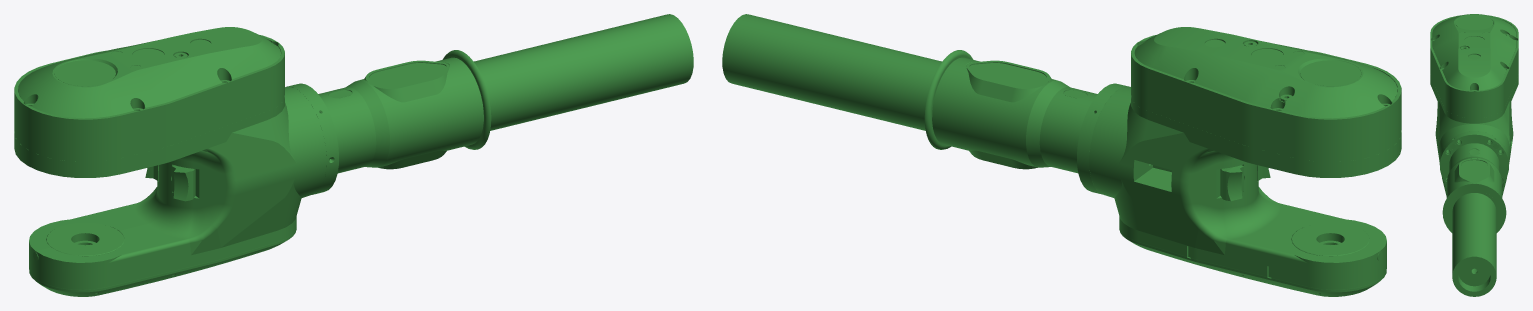
3 renders of one model, left to right at view 1: azimuth 30°, elevation 25°; view 2: azimuth 150°, elevation 25°; view 3: azimuth 270°, elevation 25°, orthographic. The views are drawn at different scales.
Visible parts, largest first — view 1: Cuerpo1:2, Cuerpo1:1, Cuerpo1, Cuerpo10; view 2: Cuerpo1:2, Cuerpo1:1, Cuerpo1, Cuerpo10; view 3: Cuerpo1:1, Cuerpo1, Cuerpo10, Cuerpo1:2.
Boxes of the visible parts, box(x1,y1,x2,y2) form: Cuerpo1:2: box(14, 86, 326, 296); Cuerpo1:1: box(14, 27, 284, 161); Cuerpo1: box(286, 50, 491, 194); Cuerpo10: box(474, 14, 693, 130); Cuerpo1:2: box(1089, 86, 1401, 296); Cuerpo1:1: box(1131, 27, 1401, 161); Cuerpo1: box(924, 50, 1129, 194); Cuerpo10: box(722, 14, 941, 130); Cuerpo1:1: box(1430, 14, 1518, 118); Cuerpo1: box(1439, 131, 1509, 232); Cuerpo10: box(1452, 195, 1496, 296); Cuerpo1:2: box(1430, 74, 1518, 195).
Bounding box in the file's own units: 31.64 × 9.9 × 5.98.
